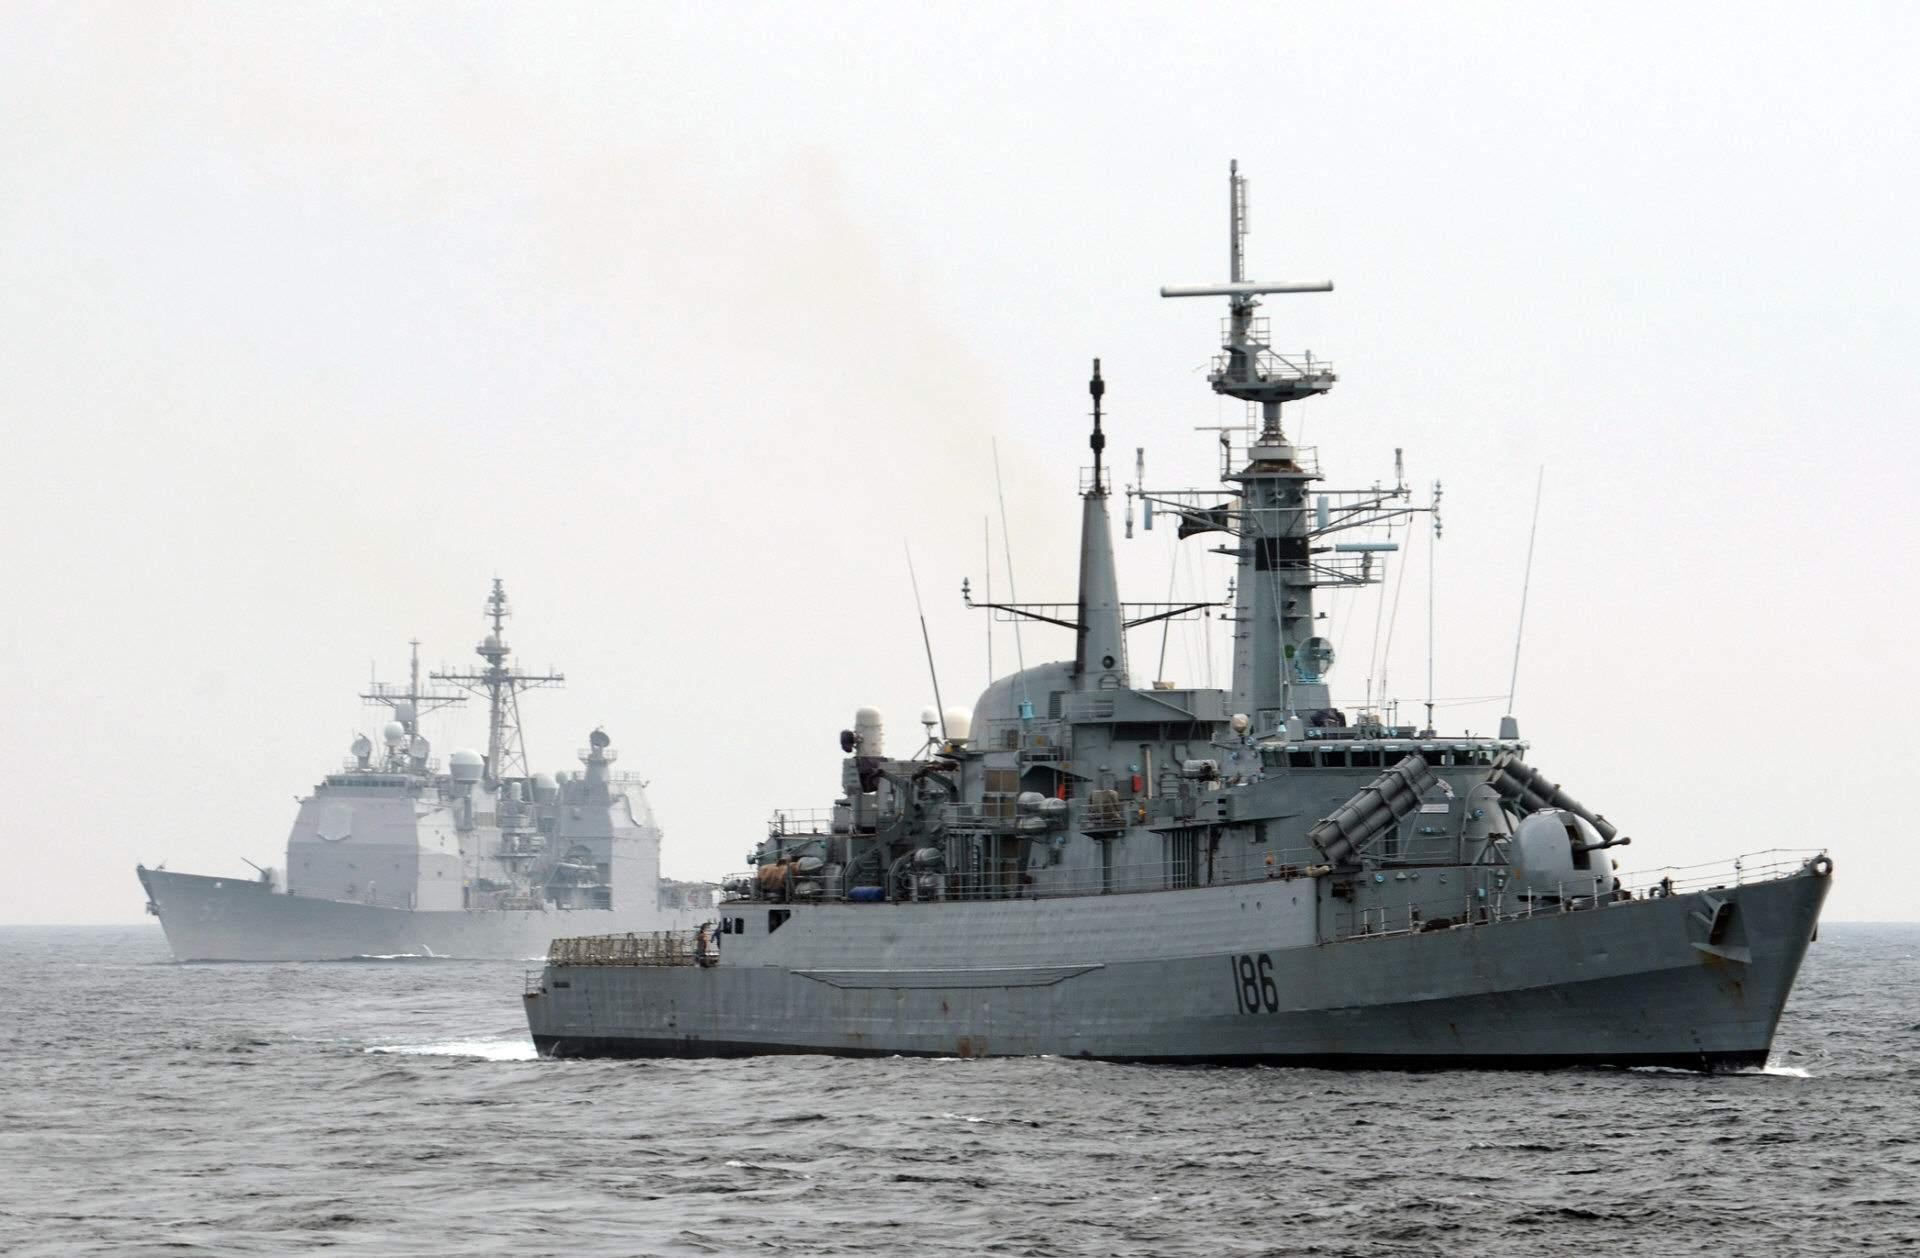warship: (532, 157, 1865, 1068), (129, 580, 778, 979)
